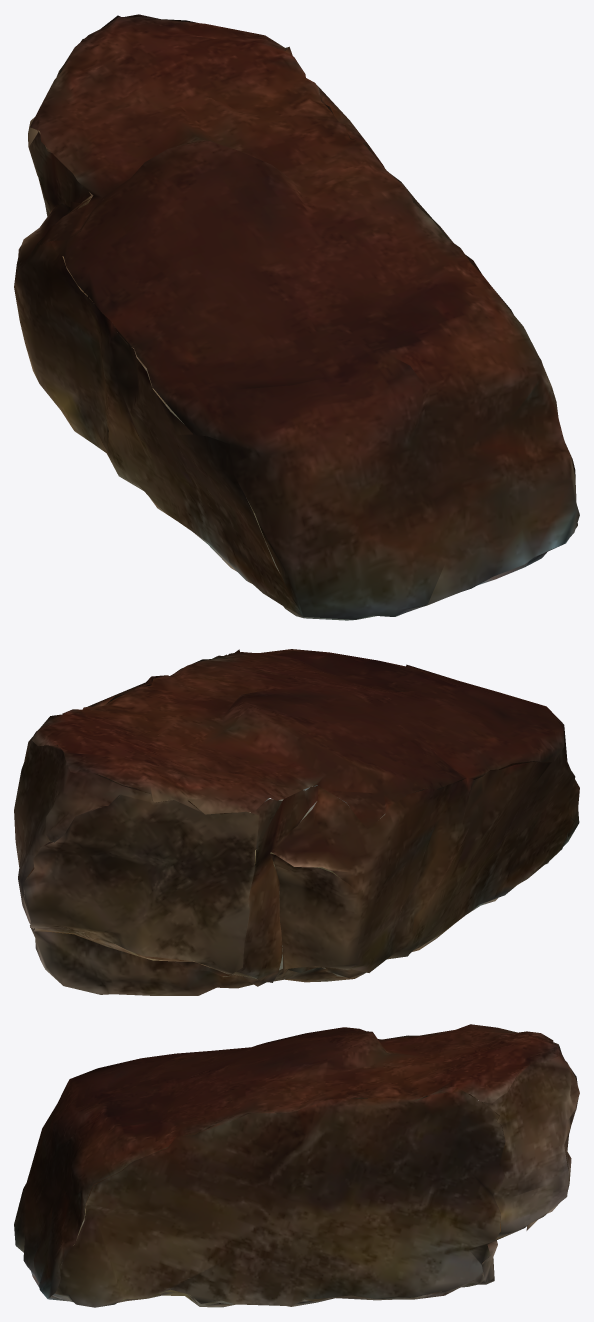
The model's file is rock_07.glb.
3 views of the same model, one above another, from view 1: azimuth 30°, elevation 25°; view 2: azimuth 150°, elevation 25°; view 3: azimuth 270°, elevation 25° (orthographic). The views are drawn at different scales.
Parts seen in each view (by area): view 1: rock_07; view 2: rock_07; view 3: rock_07.
Part boxes in pixels (x1,y1,x2,y2): rock_07: (14, 14, 579, 620); rock_07: (14, 649, 579, 995); rock_07: (14, 1024, 579, 1307).
Bounding box in the file's own units: 0.1697 × 0.1429 × 0.3208.
Materials: 1 (1 with a texture image).
